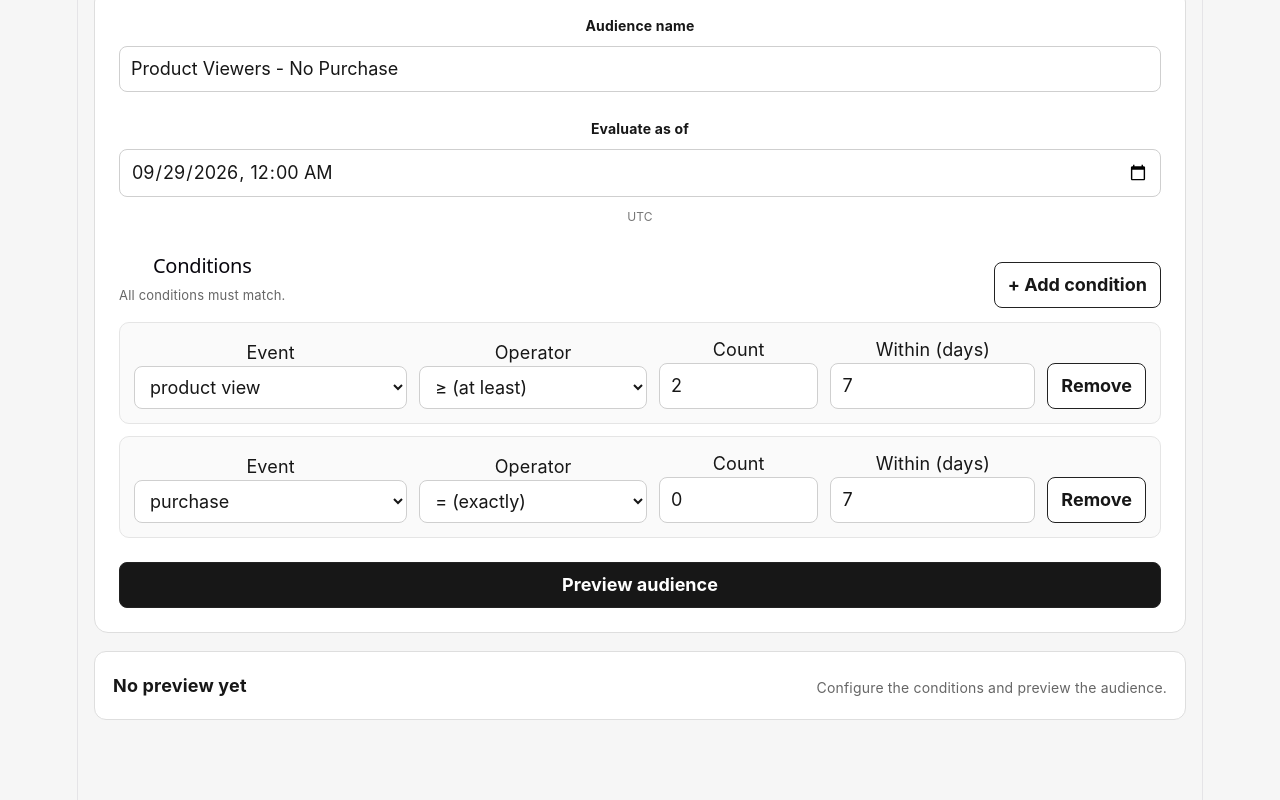
Test case: AudienceBuilder › API failure displays the error and Retry button
(page scrolled)
What coordinates should you click on to do the following:
click the button "Preview audience"
I would click on:
 (640, 585)
Its box is [119,562,1161,608].
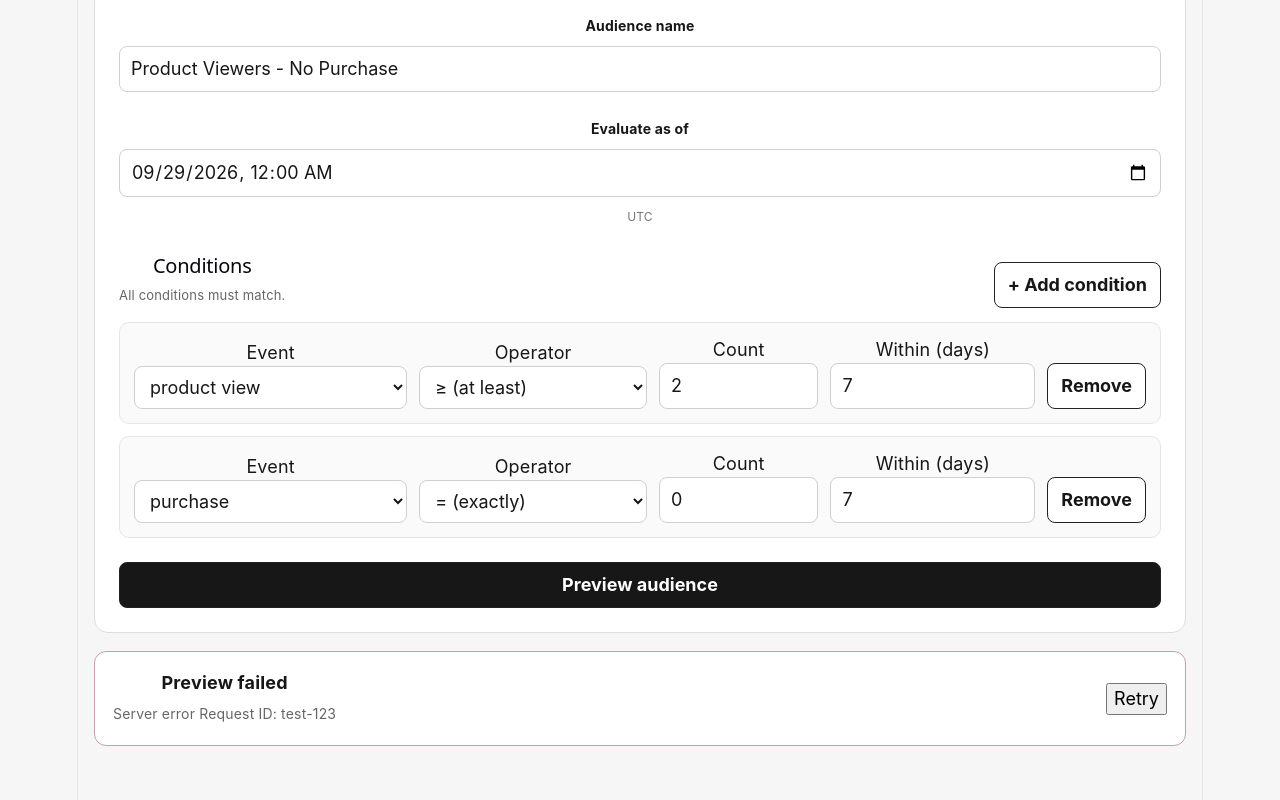
expect the message "Preview failed Server error Request ID: test-123 Retry" is shown: met, box [94,651,1186,746]
expect the text "Preview failed" is shown: met, box [162,672,288,693]
expect the text "Server error Request ID: test-123" is shown: met, box [113,701,336,727]
